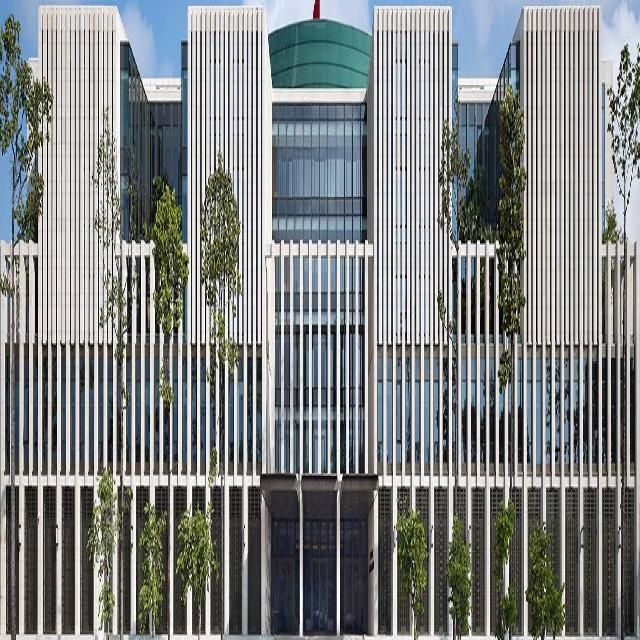door: (276, 552, 294, 633), (311, 557, 328, 634), (343, 557, 359, 634)
window: (120, 39, 188, 243), (273, 104, 367, 241), (339, 515, 369, 637), (304, 519, 335, 632), (270, 519, 299, 635), (332, 301, 360, 414), (275, 259, 281, 468), (294, 260, 300, 468), (312, 260, 318, 468), (321, 260, 327, 468), (340, 260, 346, 468), (304, 261, 309, 470), (331, 260, 336, 469), (360, 262, 365, 471), (284, 260, 289, 468), (350, 259, 355, 467), (53, 347, 58, 471), (70, 347, 75, 471), (90, 348, 95, 472), (98, 350, 103, 474), (146, 353, 151, 477), (173, 350, 178, 474), (220, 347, 225, 471), (248, 346, 253, 470), (396, 348, 401, 472), (443, 351, 448, 475), (415, 350, 420, 474), (396, 348, 401, 472), (443, 351, 448, 475), (499, 353, 504, 477), (499, 353, 504, 477), (527, 354, 532, 478), (499, 353, 504, 477), (601, 352, 606, 476), (573, 351, 578, 475), (546, 351, 551, 475), (613, 352, 618, 476), (43, 346, 48, 469), (60, 346, 65, 469), (80, 347, 85, 470), (108, 352, 113, 475), (137, 352, 142, 475), (182, 352, 187, 475), (211, 346, 216, 469), (433, 350, 438, 473), (425, 352, 430, 475), (433, 350, 438, 473), (425, 352, 430, 475), (517, 353, 522, 476), (509, 355, 514, 478), (591, 350, 596, 473), (582, 353, 587, 476), (565, 350, 570, 473), (556, 353, 561, 476), (630, 351, 635, 474), (34, 346, 38, 470), (118, 351, 122, 475), (166, 354, 170, 478), (192, 351, 196, 475), (240, 348, 244, 472), (388, 350, 392, 474), (388, 350, 392, 474), (480, 351, 484, 475), (472, 353, 476, 477), (24, 345, 28, 468), (128, 353, 132, 476), (156, 353, 160, 476), (202, 353, 206, 476), (230, 347, 234, 470), (258, 348, 262, 471), (406, 350, 410, 473), (378, 349, 382, 472), (406, 350, 410, 473), (378, 349, 382, 472), (490, 353, 494, 476), (462, 352, 466, 475), (536, 350, 540, 473)
